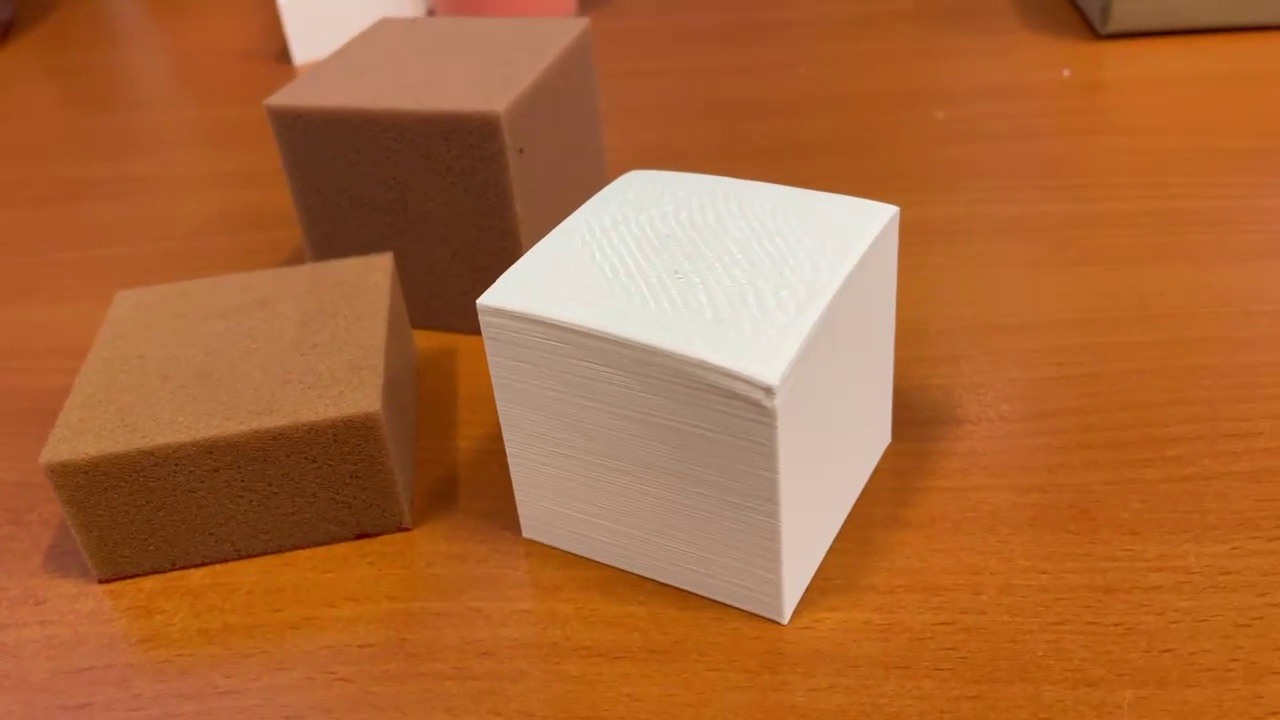Cube: (466, 163, 911, 634), (257, 7, 609, 338)
Cube_short: (34, 254, 424, 590)
